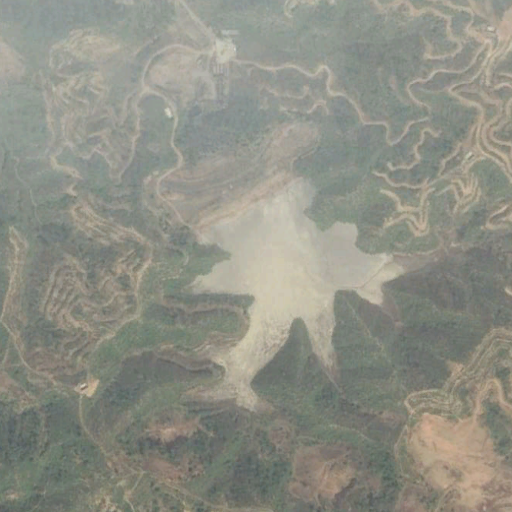tp: (162, 121, 410, 407)
